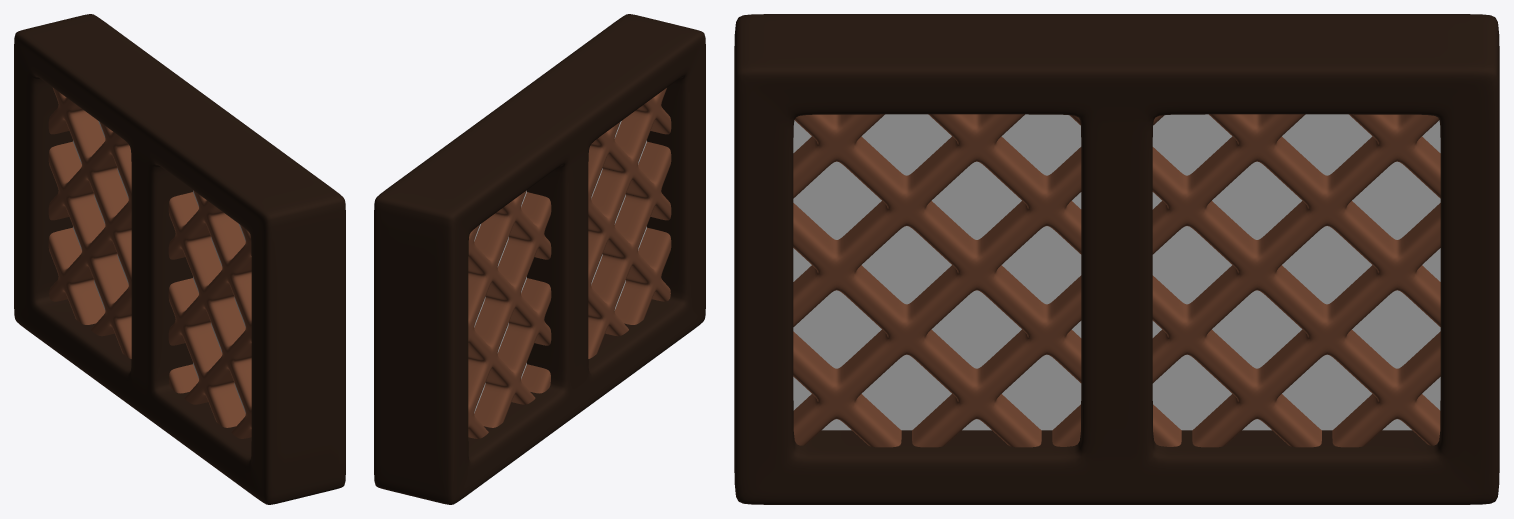
The model's file is window.obj.
The picture shows the model from 3 angles, left to right: view 1: azimuth 30°, elevation 25°; view 2: azimuth 150°, elevation 25°; view 3: azimuth 270°, elevation 25°; orthographic projection. The views are drawn at different scales.
Parts seen in each view (by area): view 1: Cube.022, Plane.025, Plane.050; view 2: Cube.022, Plane.025, Plane.050; view 3: Cube.022, Plane.025, Plane.050.
Boxes of the visible parts, x1,y1,x2,y2 form: Cube.022: [14, 14, 345, 504]; Plane.025: [48, 88, 251, 438]; Plane.050: [73, 121, 245, 413]; Cube.022: [374, 14, 705, 504]; Plane.025: [468, 88, 671, 438]; Plane.050: [474, 121, 646, 413]; Cube.022: [734, 14, 1499, 504]; Plane.025: [793, 114, 1440, 447]; Plane.050: [793, 114, 1440, 430].
Size of the model in its own units: 0.6764 by 2.35 by 3.72.
